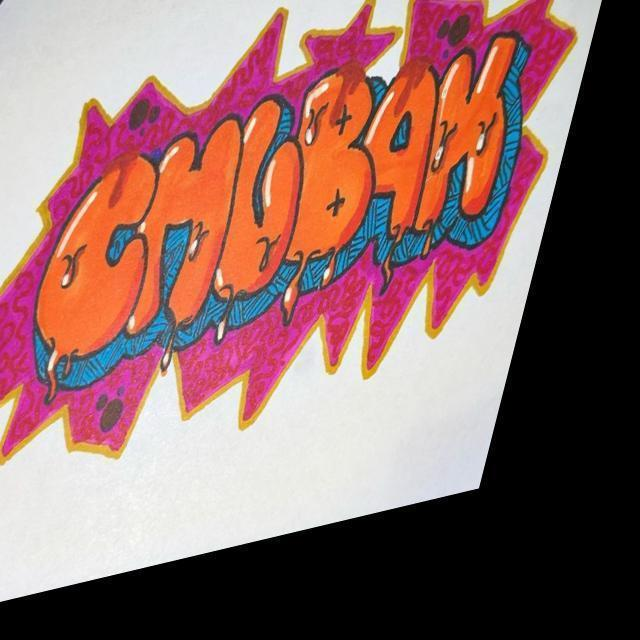nonspitting: (32, 32, 534, 390)
